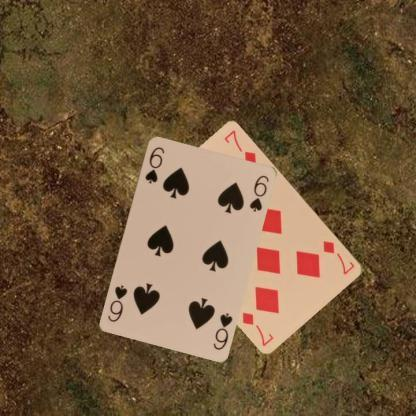6s: (142, 144, 166, 184), (210, 310, 233, 350)
7d: (321, 238, 356, 276)
